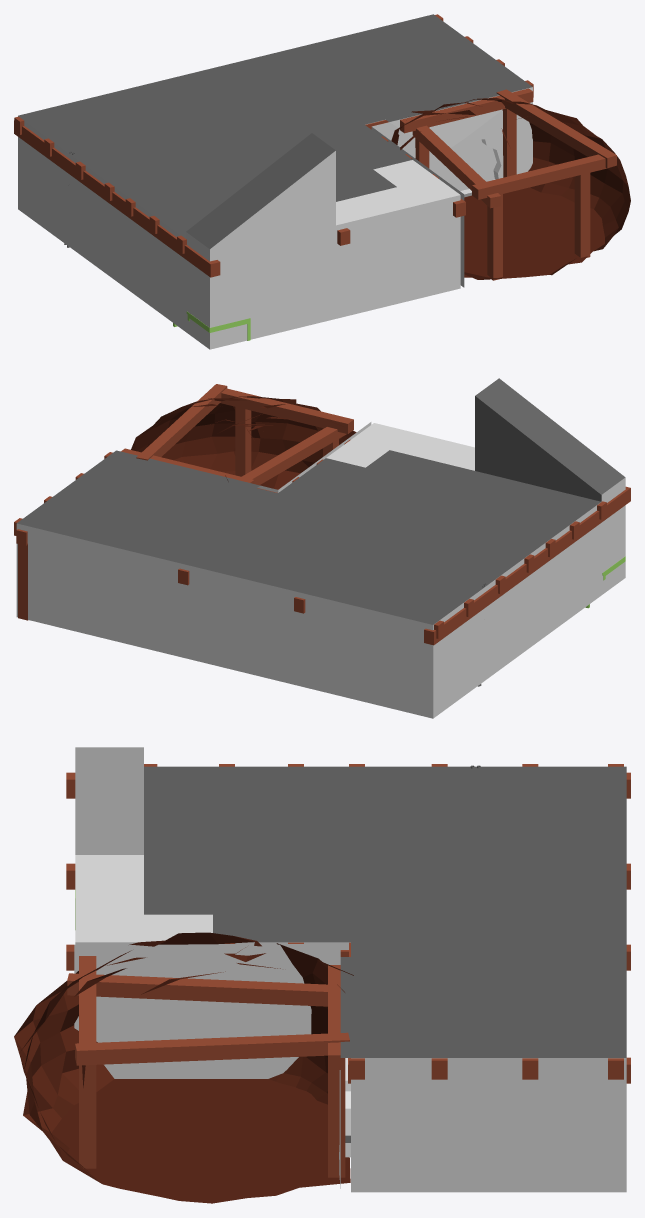
File: Piwnica.fbx
The picture shows the model from 3 angles, top to bottom: view 1: azimuth 30°, elevation 25°; view 2: azimuth 150°, elevation 25°; view 3: azimuth 270°, elevation 25°; orthographic projection. The views are drawn at different scales.
Visible parts, largest first — view 1: Walls, Sphere, Podpory2, Podpory3.010, Podpory3.011, Podpory3.012, Podpory3.007, ŚcianaDziura, Podpory3.009, Podpory, Podpory3.008, Podpory3.006; view 2: Walls, Sphere, Podpory2, Podpory3.010, Podpory3.011, Podpory3.012, Podpory, Podpory3.009, Podpory3.003, Podpory3.007; view 3: Walls, Sphere, Podpory3.011, Podpory3.012, Podpory3.006, Podpory, Podpory3.009, Podpory3.010, Podpory2, Podpory3.007.
Part boxes in pixels (x1,y1,x2,y2): Walls: [18, 14, 532, 349]; Sphere: [391, 97, 630, 279]; Podpory2: [14, 120, 465, 277]; Podpory3.010: [472, 154, 606, 199]; Podpory3.011: [496, 89, 616, 168]; Podpory3.012: [412, 125, 501, 208]; Podpory3.007: [400, 88, 533, 133]; ŚcianaDziura: [432, 139, 496, 191]; Podpory3.009: [574, 173, 590, 257]; Podpory: [14, 14, 533, 253]; Podpory3.008: [487, 194, 502, 280]; Podpory3.006: [502, 108, 516, 177]; Walls: [16, 378, 625, 718]; Sphere: [131, 396, 356, 489]; Podpory2: [16, 486, 630, 645]; Podpory3.010: [220, 388, 353, 433]; Podpory3.011: [136, 384, 227, 460]; Podpory3.012: [241, 427, 346, 485]; Podpory: [14, 439, 606, 638]; Podpory3.009: [235, 405, 251, 476]; Podpory3.003: [18, 544, 28, 620]; Podpory3.007: [121, 448, 254, 483]; Walls: [74, 747, 626, 1192]; Sphere: [14, 932, 353, 1203]; Podpory3.011: [75, 1032, 349, 1065]; Podpory3.012: [67, 973, 327, 1006]; Podpory3.006: [328, 1070, 345, 1177]; Podpory: [144, 764, 623, 1079]; Podpory3.009: [79, 1065, 96, 1168]; Podpory3.010: [79, 956, 96, 1043]; Podpory2: [66, 772, 630, 1083]; Podpory3.007: [328, 965, 345, 1069].
Bounding box in the file's own units: 1084 × 407 × 895.
